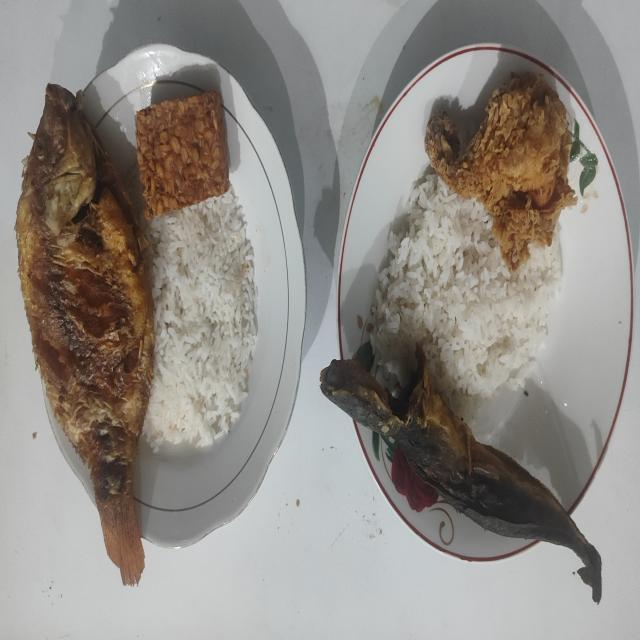ikan_mujair: (15, 83, 154, 584)
nasi_putih: (370, 174, 562, 418), (142, 186, 258, 452)
tempe_goreng: (136, 90, 230, 219)
